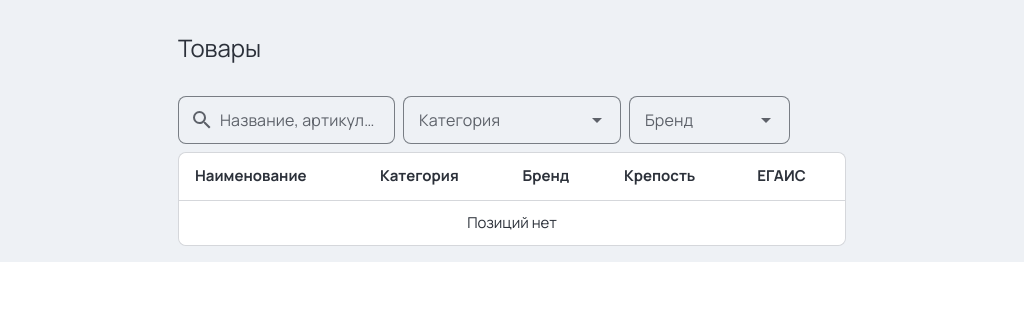
Test case: ProductsPage › скан со сканера ищется сразу по Enter и показывает, как понят код
Type "20N00001CGUMZYCB99J1NKN31105001000056NQQMS5VP4HTF5SB46ZSQQJD8BNJP891" into the field labelled "Название, артикул, штрихкод или скан марки" at (299, 120), box [214,96,383,144]
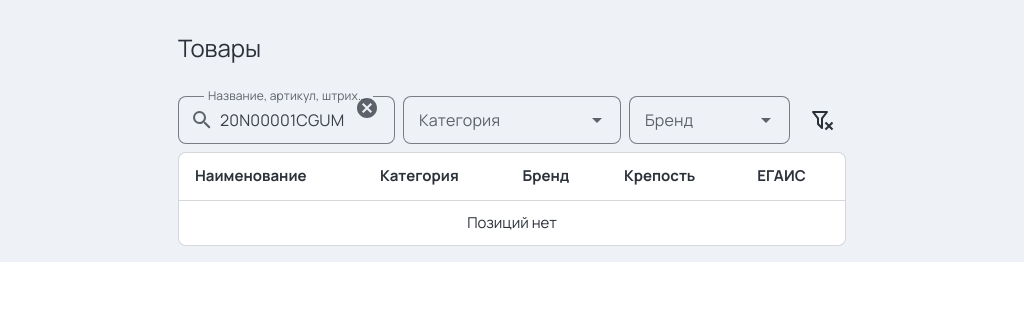
Press Enter in the field labelled "Название, артикул, штрихкод или скан марки", box [214,96,351,144]
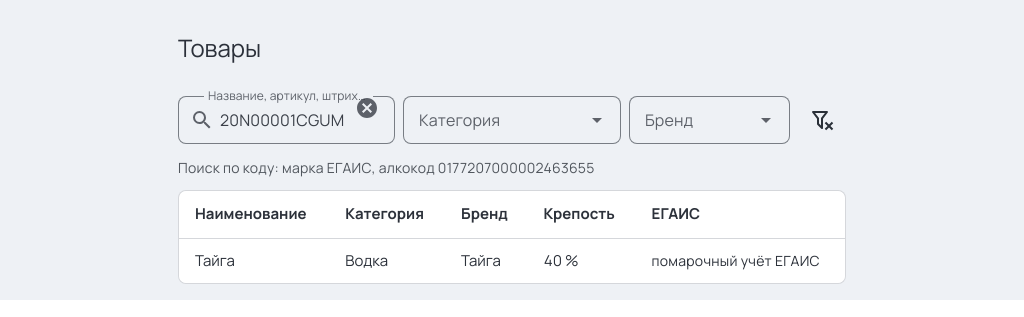
Result: the text with test id "scan" reads "Поиск по коду: марка ЕГАИС, алкокод 0177207000002463655" at [178,158,594,177]
Result: the row "Тайга Водка Тайга 40 % помарочный учёт ЕГАИС" is shown at [179,239,845,283]
